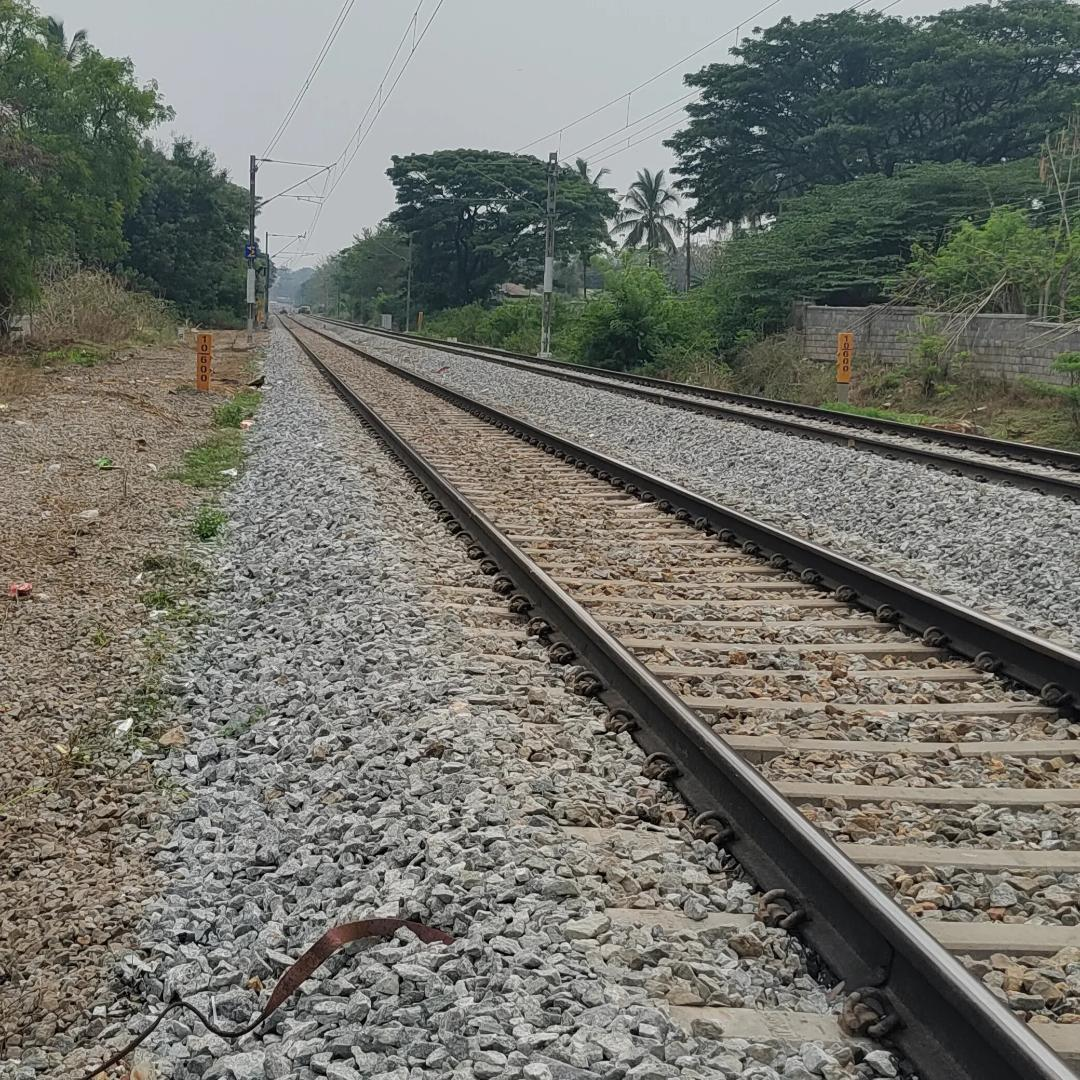track: (270, 310, 1080, 1080)
